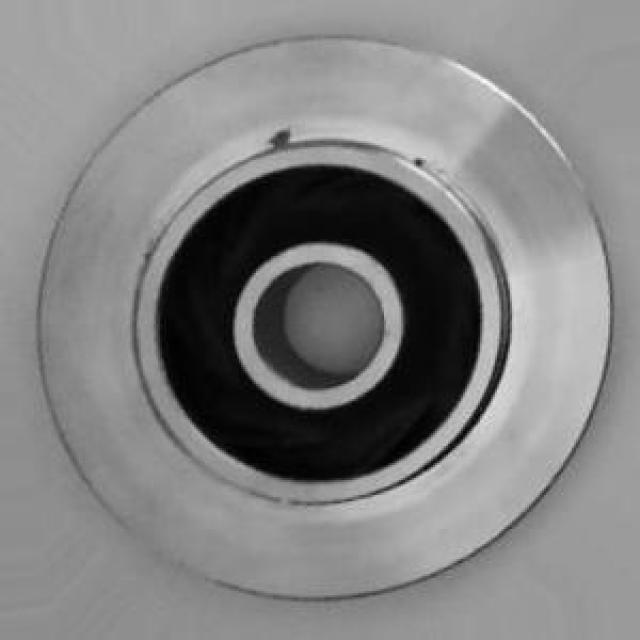Defect: (268, 121, 297, 154)
